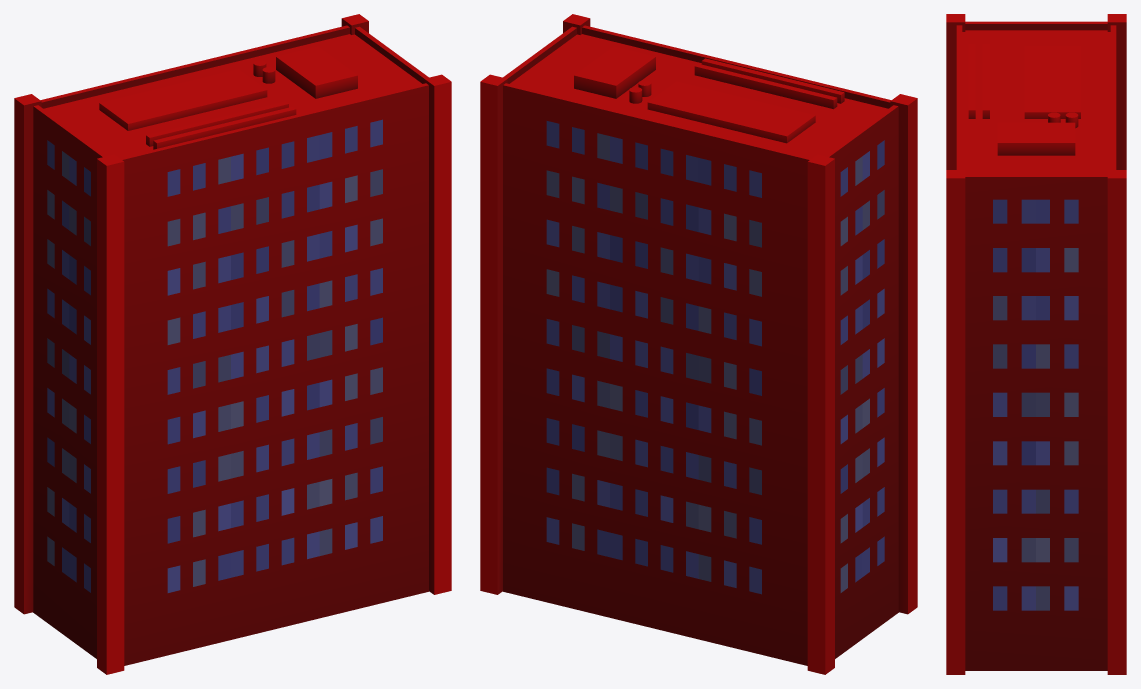
Rendered from RC_ComBuilding9.fbx.
3 views of the same model, side by side, from view 1: azimuth 30°, elevation 25°; view 2: azimuth 150°, elevation 25°; view 3: azimuth 270°, elevation 25° (orthographic). The views are drawn at different scales.
Parts seen in each view (by area): view 1: base.038, windowRefl.021; view 2: base.038, windowRefl.021; view 3: base.038, windowRefl.021.
Part boxes in pixels (left/top/right/bottom): base.038: left=14, top=14, right=451, bottom=674; windowRefl.021: left=47, top=119, right=382, bottom=592; base.038: left=480, top=14, right=917, bottom=674; windowRefl.021: left=546, top=121, right=884, bottom=594; base.038: left=946, top=14, right=1126, bottom=674; windowRefl.021: left=993, top=199, right=1078, bottom=610.
Size of the model in its own units: 2336 by 3318 by 1085.
